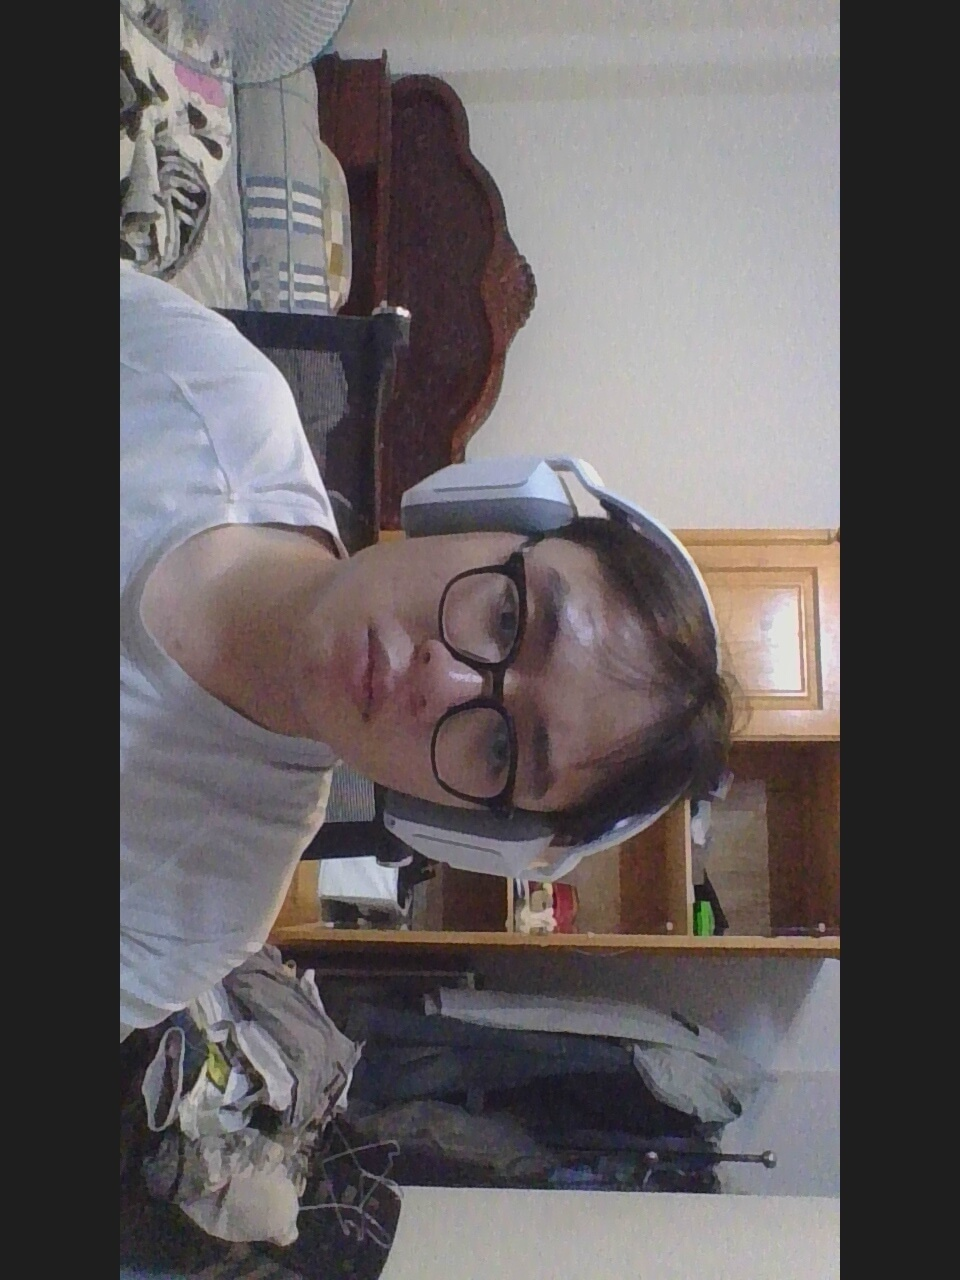aa: (373, 454, 736, 893)
